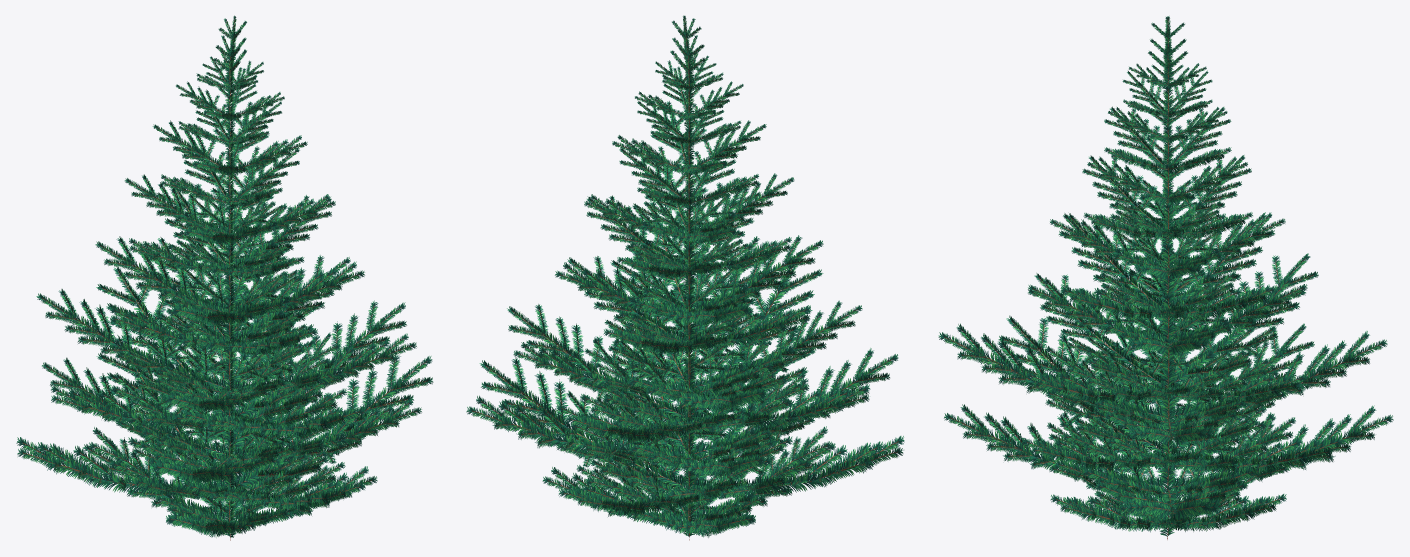
Rendered from treePine2.glb.
3 renders of one model, left to right at view 1: azimuth 30°, elevation 25°; view 2: azimuth 150°, elevation 25°; view 3: azimuth 270°, elevation 25°, orthographic.
Parts seen in each view (by area): view 1: Pine; view 2: Pine; view 3: Pine.
Boxes of the visible parts, box(x1,y1,x2,y2) form: Pine: box(16, 15, 433, 540); Pine: box(466, 15, 904, 540); Pine: box(938, 16, 1393, 539).
Size of what is drawn, in the model's own units: 21.9 by 25.98 by 20.51.
1 material, 1 textured.
